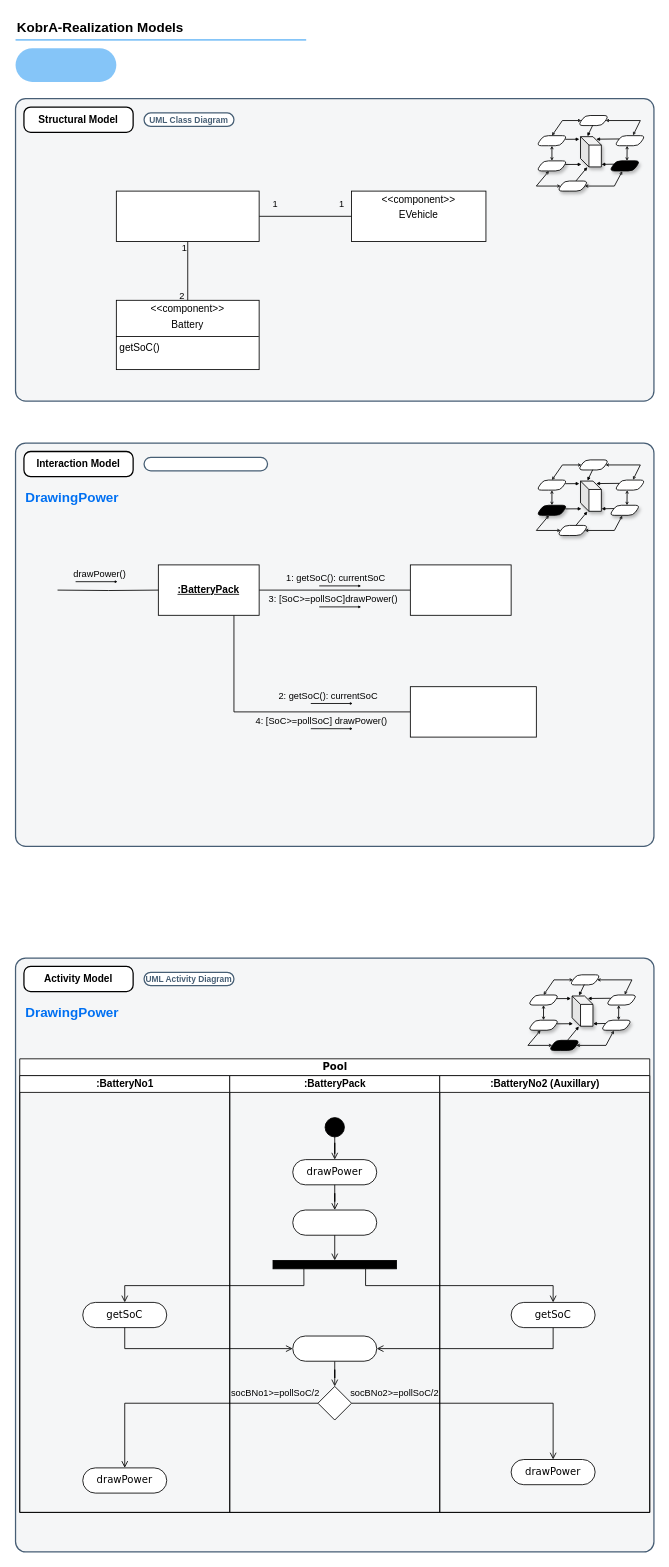
This 669x1567 diagram has some shape labels left out. Here are the shapes that lost their labels. From the top down, the centre of each, then its label:
At point (65, 64): "BatteryPack".
At point (187, 216): "<<subject>> BatteryPack".
At point (205, 463): "UML Collaboration Diagram".
At point (460, 589): "bNo1:Battery".
At point (473, 711): "bNo2( Auxillary) :Battery".
At point (334, 1222): "checkSoC".
At point (334, 1348): "determining an algorithm".
